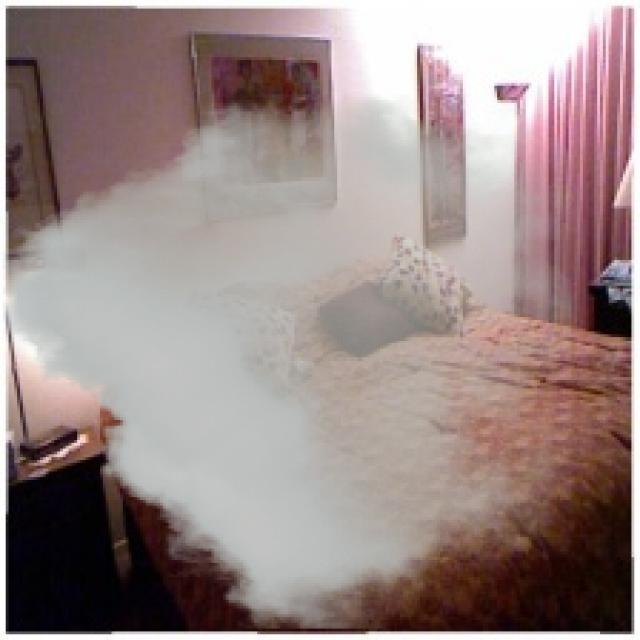Smoke: (2, 94, 572, 629)
